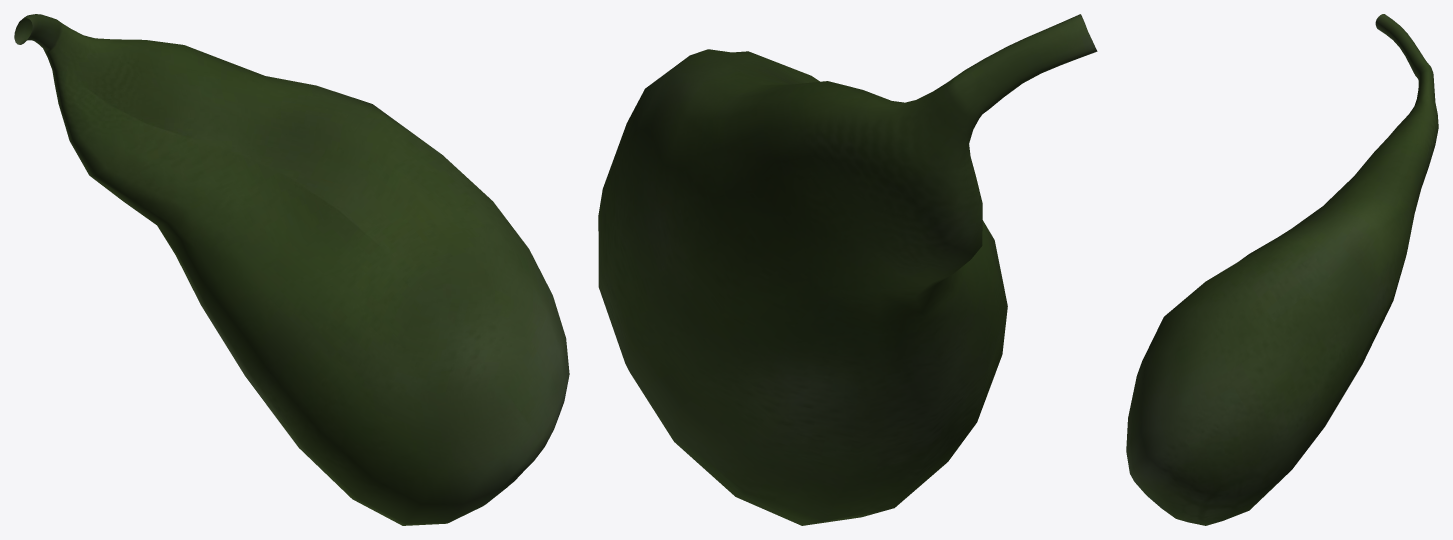
The model's file is Galbladder.fbx.
3 renders of one model, left to right at view 1: azimuth 30°, elevation 25°; view 2: azimuth 150°, elevation 25°; view 3: azimuth 270°, elevation 25°, orthographic. The views are drawn at different scales.
Visible parts, largest first — view 1: node_Group53789_10674_2; view 2: node_Group53789_10674_2; view 3: node_Group53789_10674_2.
Boxes of the visible parts, x1,y1,x2,y2 form: node_Group53789_10674_2: (14, 14, 569, 525); node_Group53789_10674_2: (598, 14, 1097, 525); node_Group53789_10674_2: (1126, 14, 1438, 525).
Bounding box in the file's own units: 41.51 × 45.23 × 32.83.
